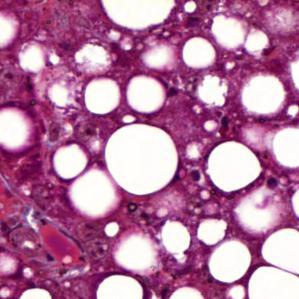steatosis: (102, 117, 179, 195), (202, 138, 266, 196), (127, 73, 169, 118), (82, 77, 122, 114)
